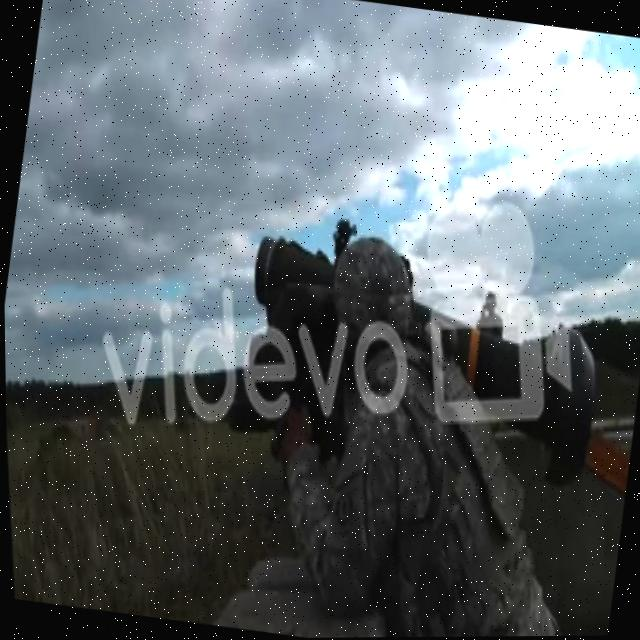rocket: (214, 170, 632, 536)
